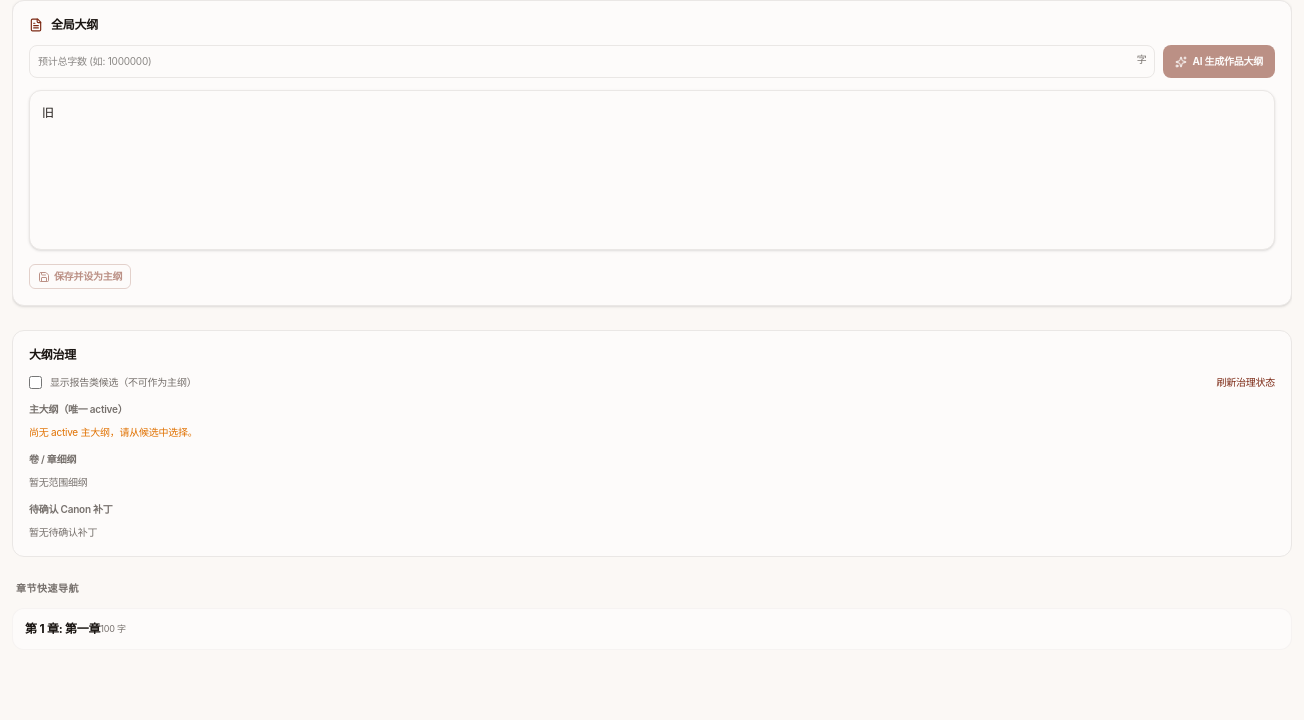
Test case: OutlineTab - Plan 135 Behavior Tests › reconciliation reports unknown state when readback fails
The width and height of the screenshot is (1304, 720).
Replace the text in the text box with "新": (652, 170) [29,90,1275,250]
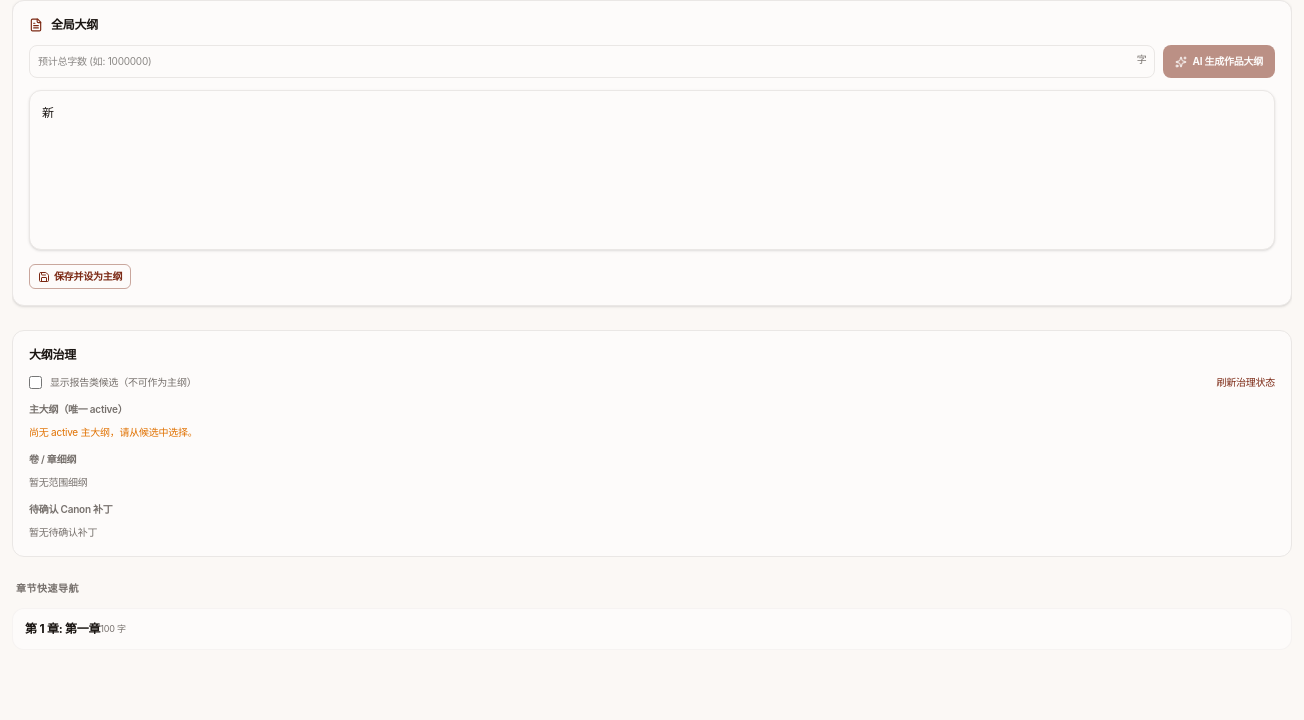
Click the button "保存并设为主纲": (80, 276) [29,264,131,289]
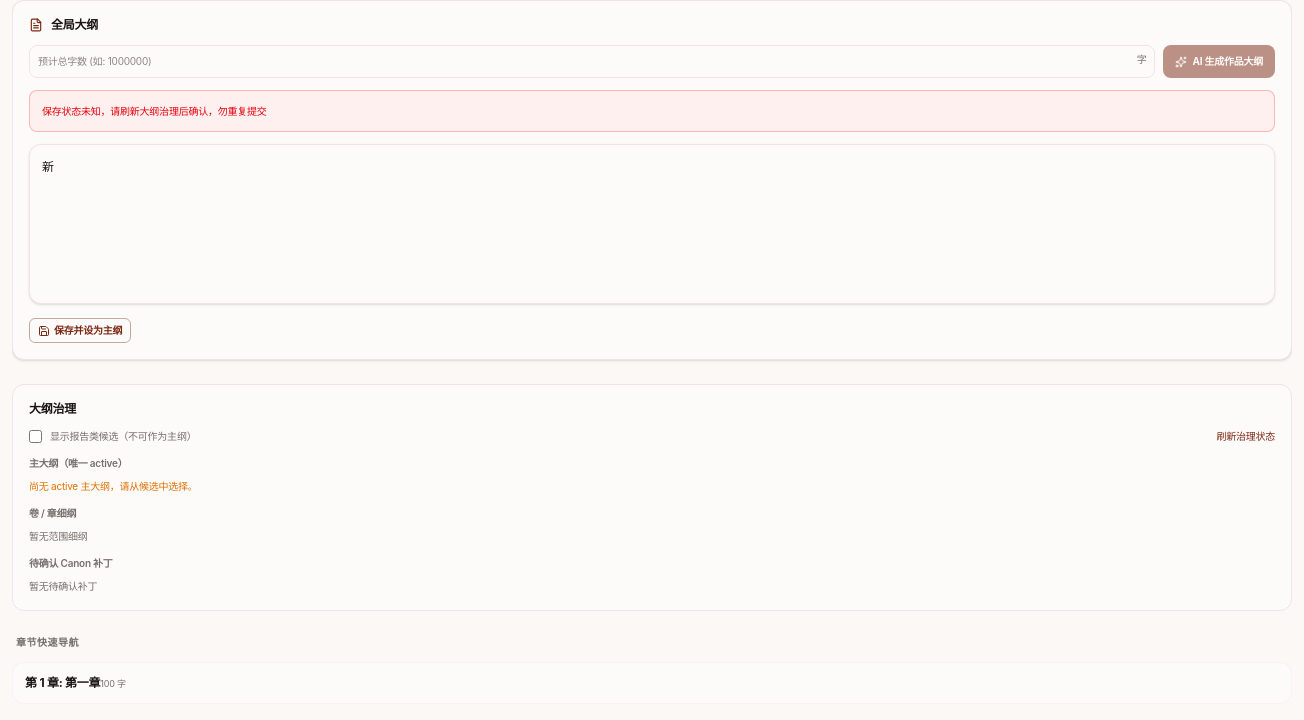
Now the text "保存状态未知，请刷新大纲治理后确认，勿重复提交" is shown, box [29,90,1275,132]
